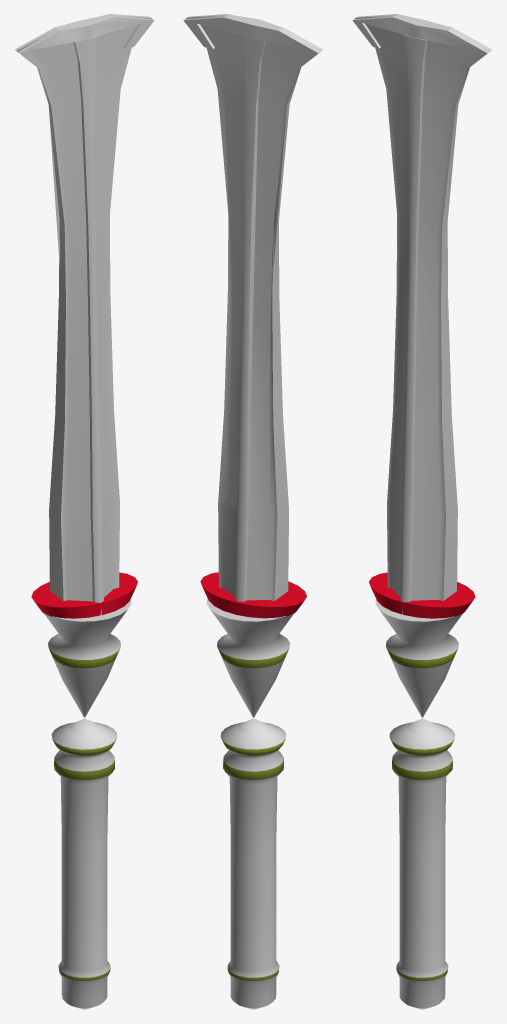
Rendered from Ssord.fbx.
3 renders of one model, left to right at view 1: azimuth 30°, elevation 25°; view 2: azimuth 150°, elevation 25°; view 3: azimuth 330°, elevation 25°, orthographic.
Visible parts, largest first — view 1: pCube1, pCylinder1, pCylinder2, pCylinder3; view 2: pCube1, pCylinder1, pCylinder2, pCylinder3; view 3: pCube1, pCylinder1, pCylinder2, pCylinder3.
Part boxes in pixels (x1,y1,x2,y2): pCube1: (14,14,154,615); pCylinder1: (51,718,117,1009); pCylinder2: (44,599,131,717); pCylinder3: (31,572,137,618); pCube1: (183,14,323,601); pCylinder1: (220,718,286,1009); pCylinder2: (206,598,293,717); pCylinder3: (200,572,306,618); pCube1: (352,14,492,614); pCylinder1: (389,718,455,1009); pCylinder2: (375,599,462,717); pCylinder3: (369,572,475,618).
Bounding box in the file's own units: 6.82 × 47.59 × 4.13.
